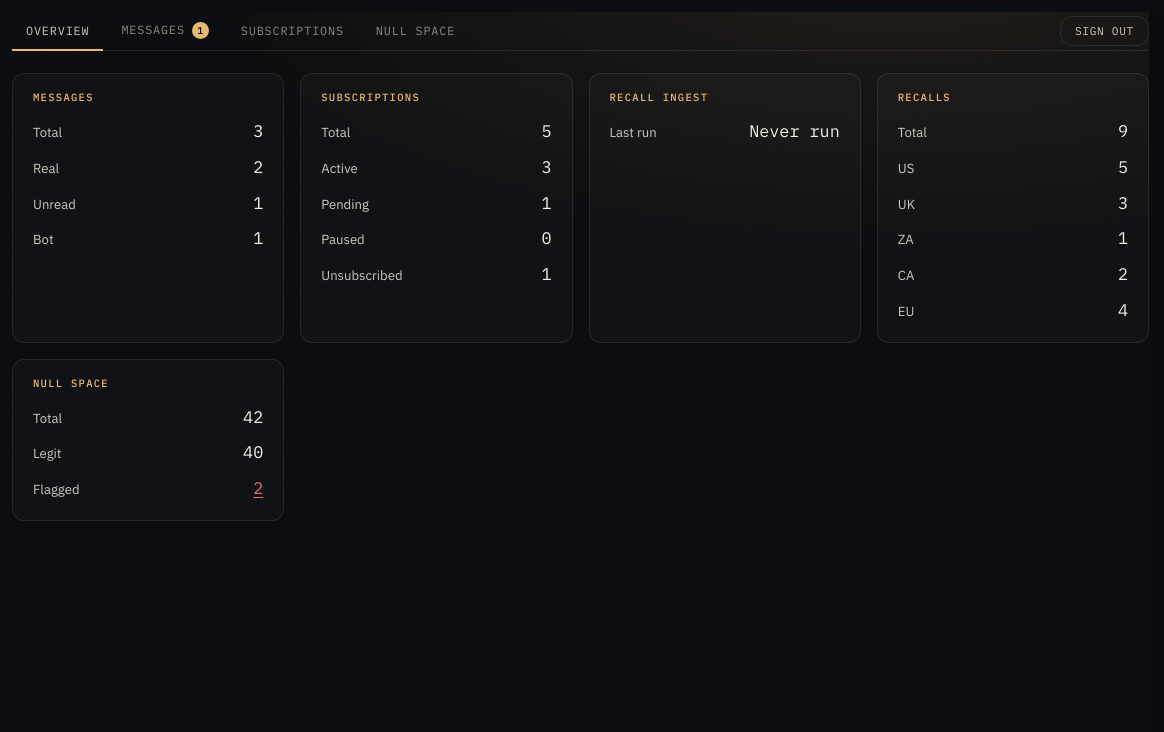
Test case: AdminShell tab navigation › opens a tab when its overview card is clicked
The width and height of the screenshot is (1164, 732).
Click the button with aria-label "Open Messages" at (63, 97), box [12,73,284,343]
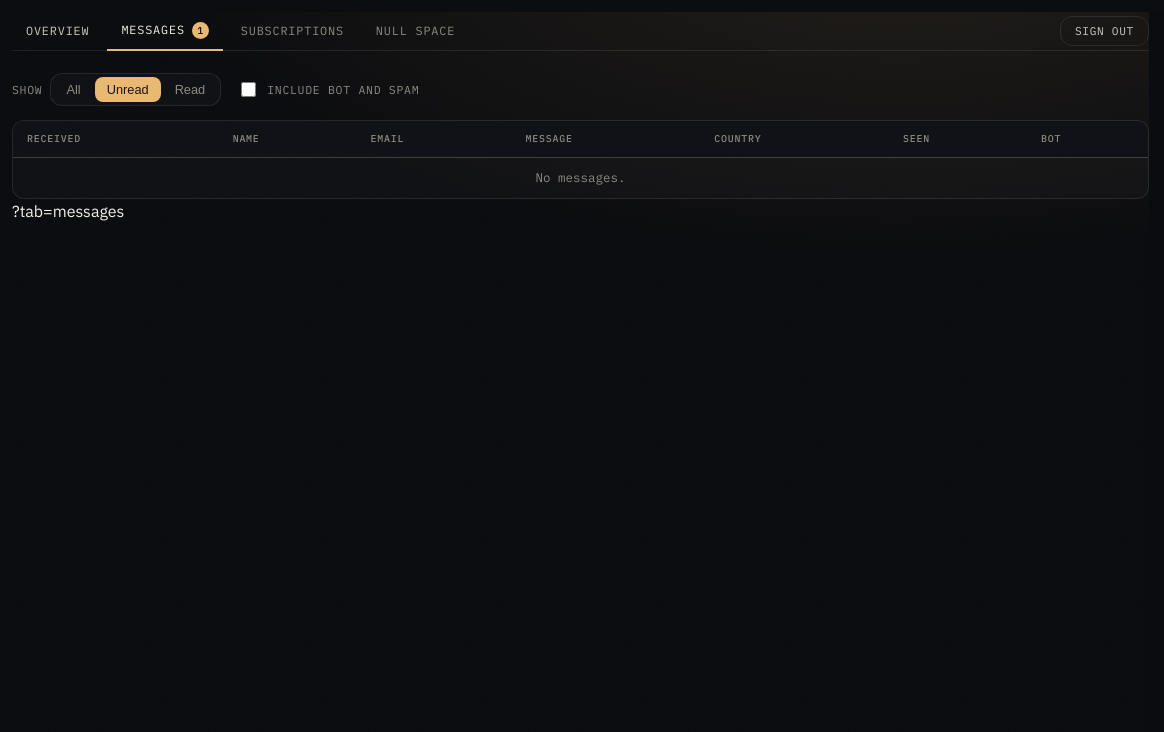
Expected: the text with test id "search" reads "?tab=messages", [12,201,124,221]
Expected: the text "Include bot and spam" is shown, [237,79,419,100]
